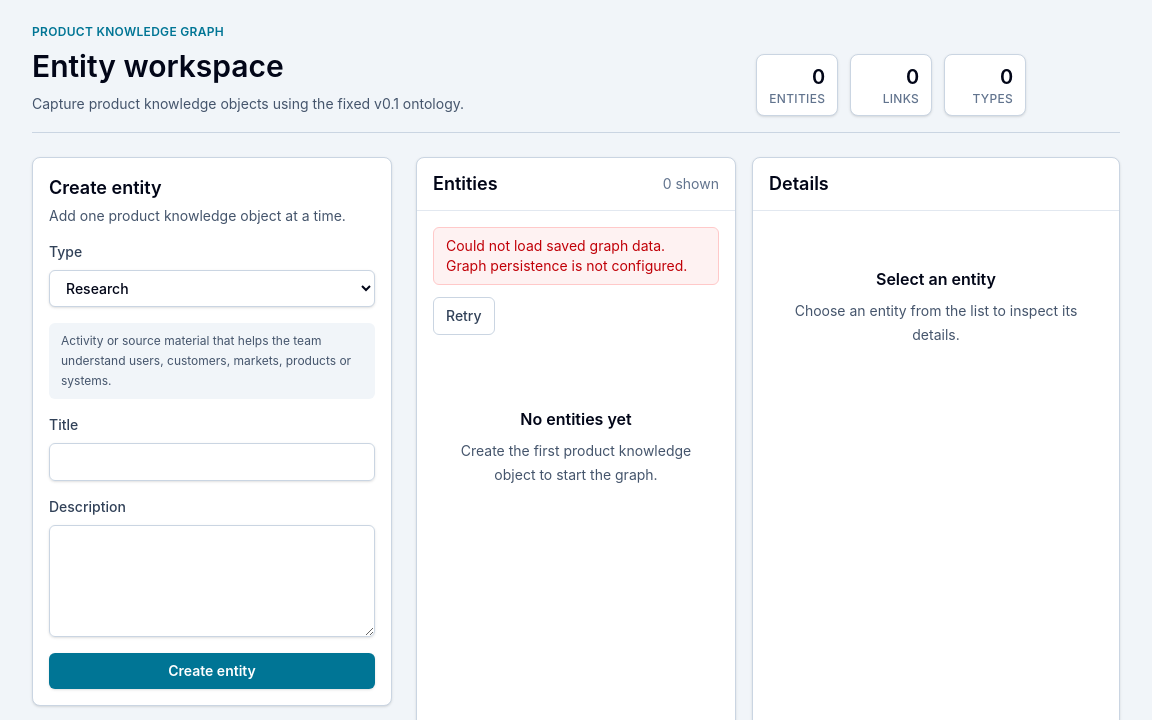
Test case: App › shows API diagnostics when entity creation fails
Expected: the text "Could not load saved graph data" is shown, [446,237,687,274]
Select "Insight" in the dropdown labelled "Type" at (212, 288), box [49,270,375,307]
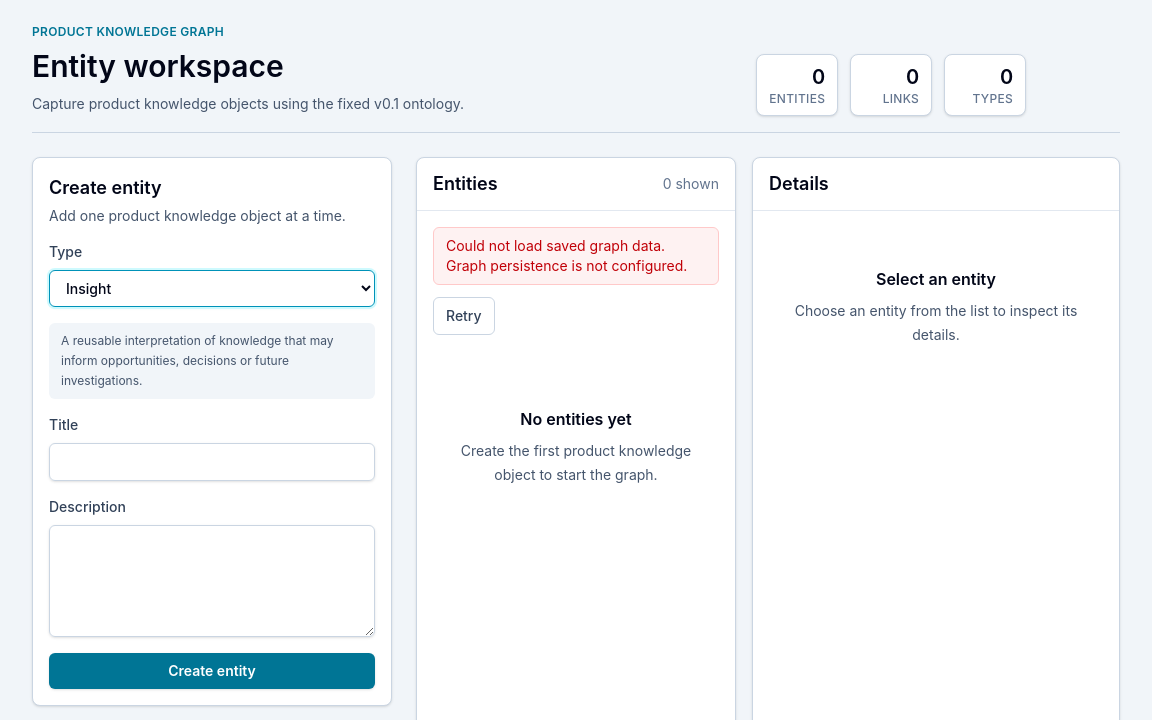
Type "Users miss onboarding value" into the field labelled "Title" at (212, 462), box [49,443,375,481]
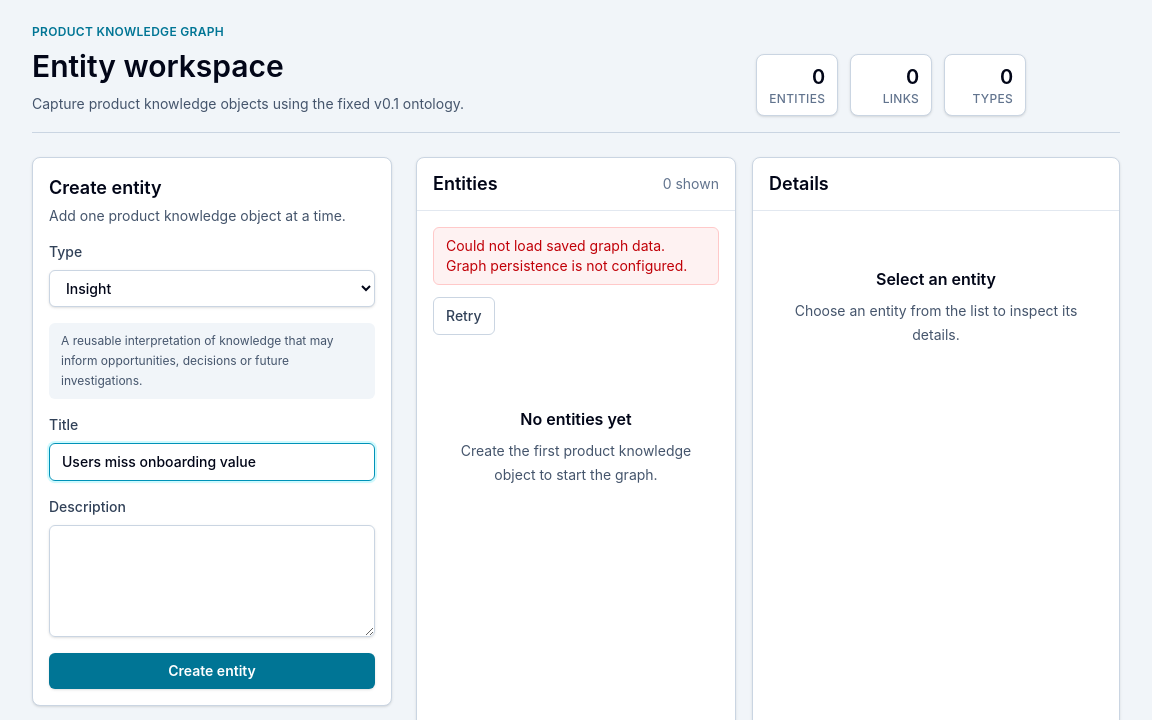
Type "Research shows onboarding copy is unclear." into the text box labelled "Description" at (212, 581), box [49,525,375,637]
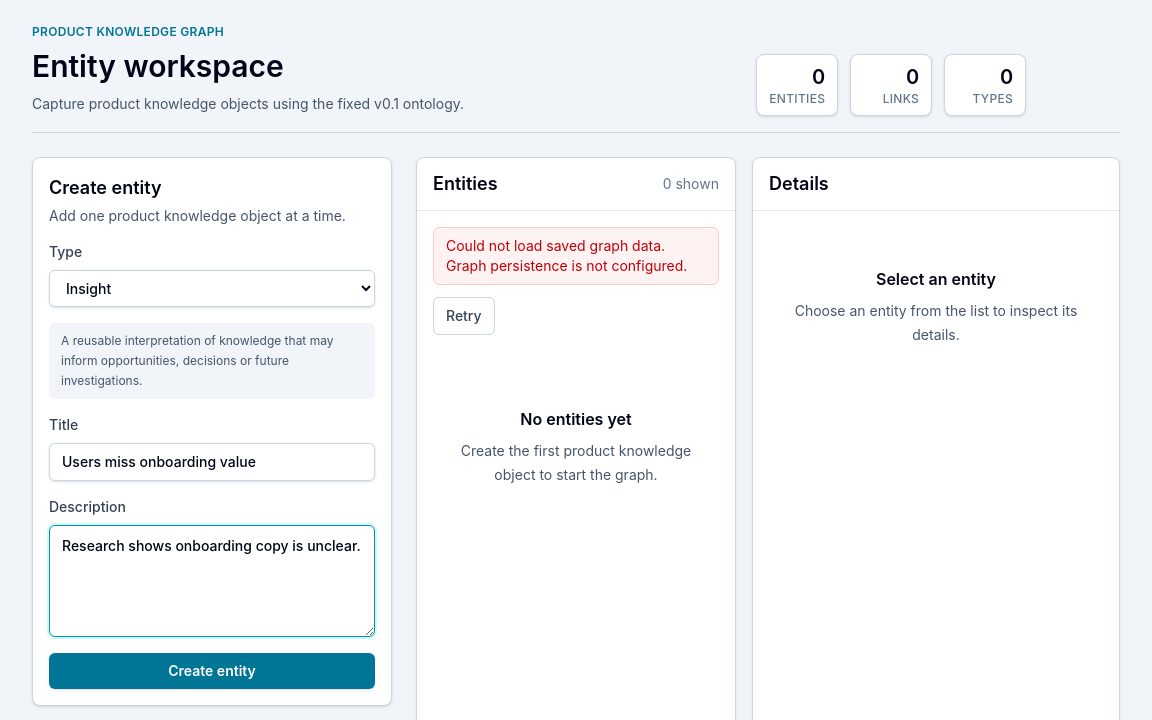
Click the button "Create entity" at (212, 671), box [49,653,375,689]
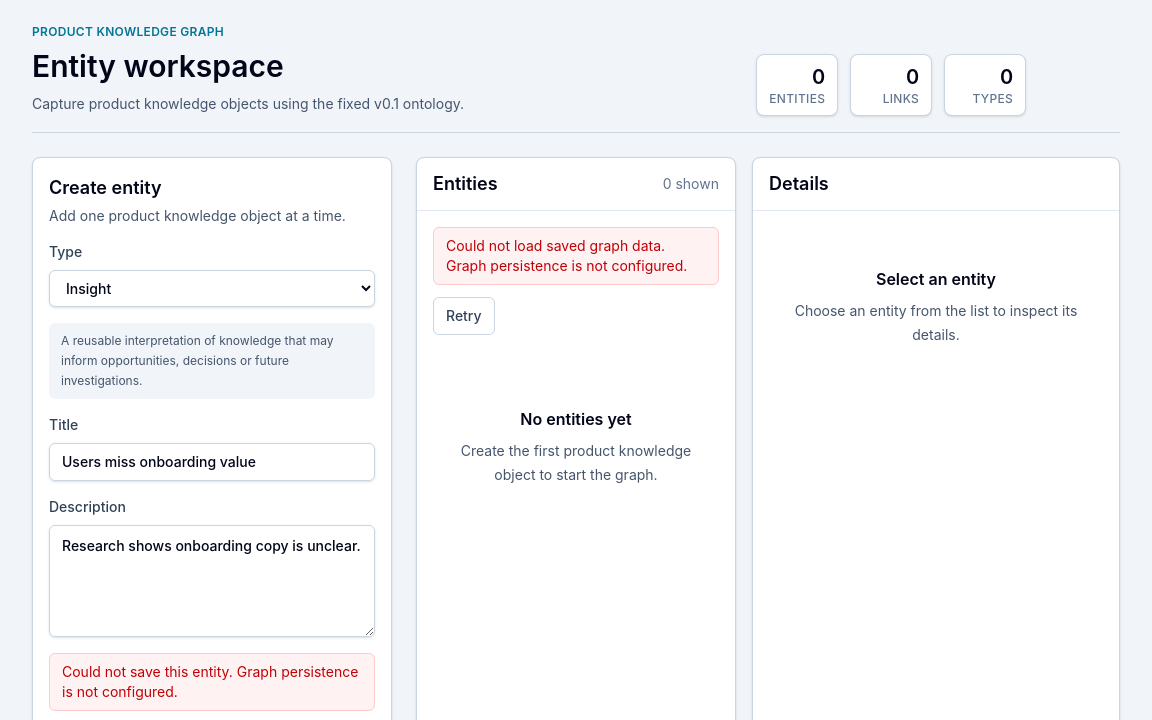
Result: the text "Could not save this entity. Graph persistence is not configured" is shown at [62,663,358,700]
